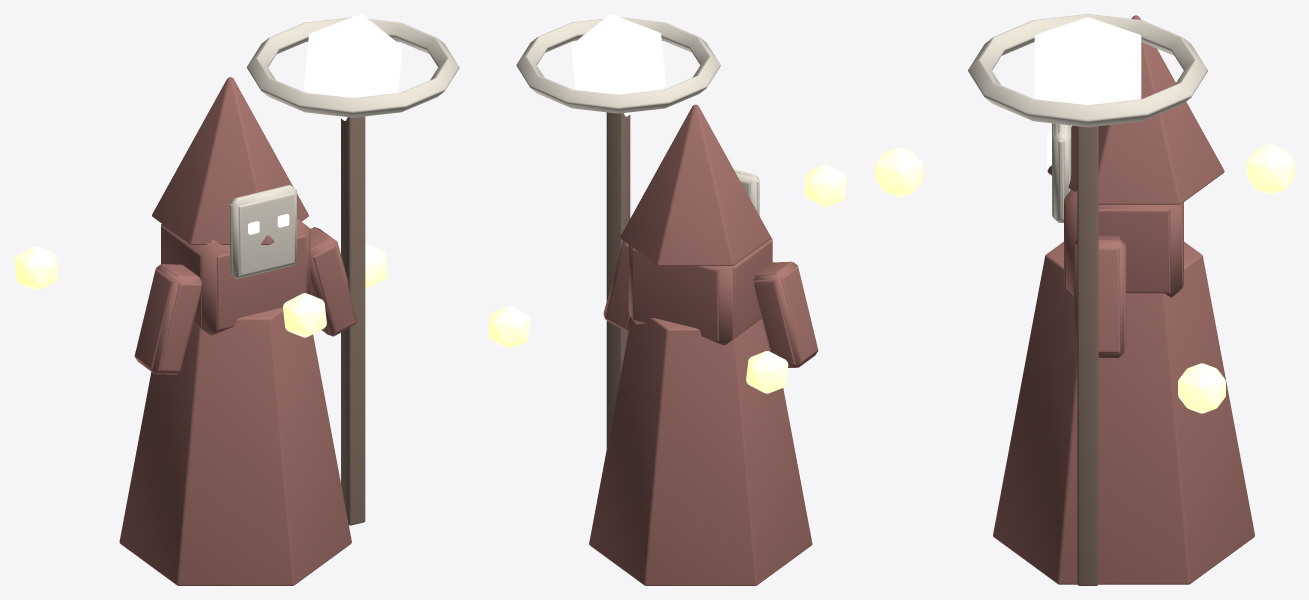
Rendered from EN_Ember_MagmaShaman_S.fbx.
3 renders of one model, left to right at view 1: azimuth 30°, elevation 25°; view 2: azimuth 150°, elevation 25°; view 3: azimuth 270°, elevation 25°, orthographic. The views are drawn at different scales.
Parts seen in each view (by area): view 1: EN_Ember_MagmaShaman_S; view 2: EN_Ember_MagmaShaman_S; view 3: EN_Ember_MagmaShaman_S.
Part boxes in pixels (x1,y1,x2,y2): EN_Ember_MagmaShaman_S: (14,14,459,585); EN_Ember_MagmaShaman_S: (488,14,846,585); EN_Ember_MagmaShaman_S: (875,14,1294,585).
Bounding box in the file's own units: 1.88 × 2.67 × 1.75.
